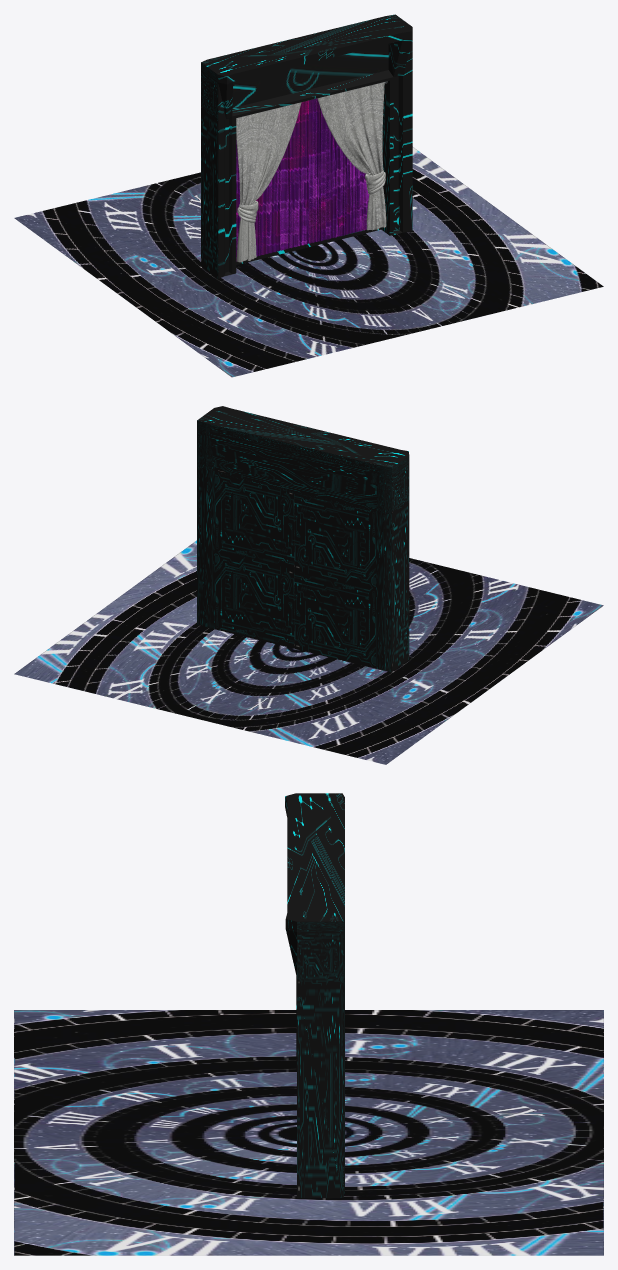
The model's file is stage.dae.
3 renders of one model, top to bottom at view 1: azimuth 30°, elevation 25°; view 2: azimuth 150°, elevation 25°; view 3: azimuth 270°, elevation 25°, orthographic. The views are drawn at different scales.
Visible parts, largest first — view 1: Plane, Cube, group_7, group_9_001, group_9, group_11, group_11_001; view 2: Plane, Cube; view 3: Plane, Cube.
Part boxes in pixels (bbox=[...]): Plane: bbox=[14, 147, 603, 377]; Cube: bbox=[201, 14, 412, 278]; group_7: bbox=[236, 98, 369, 261]; group_9_001: bbox=[317, 82, 384, 175]; group_9: bbox=[236, 102, 301, 205]; group_11: bbox=[236, 218, 256, 262]; group_11_001: bbox=[366, 187, 386, 230]; Plane: bbox=[14, 540, 603, 764]; Cube: bbox=[197, 406, 409, 671]; Plane: bbox=[14, 1010, 603, 1255]; Cube: bbox=[285, 793, 344, 1197].
Bounding box in the file's own units: 6.04 × 6.13 × 3.17.
Materials: 6 (4 with a texture image).
